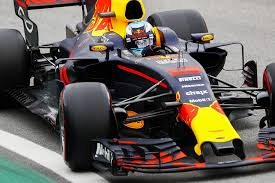FormulaOneCar: (2, 1, 275, 174)
